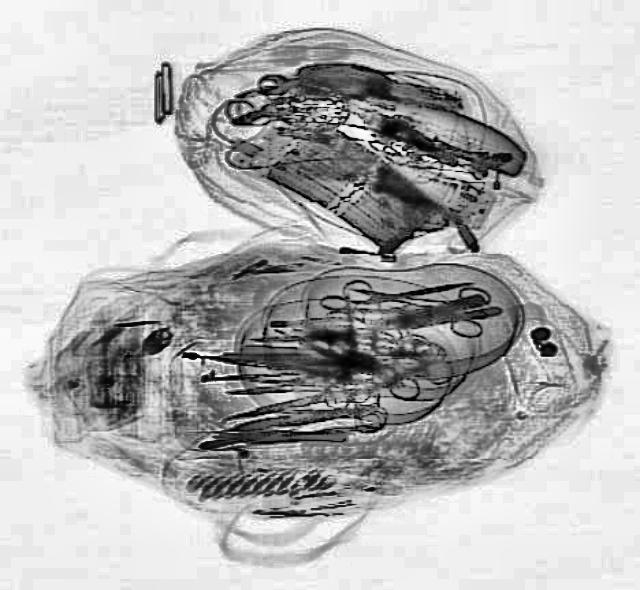Scissors: (338, 263, 492, 341), (315, 268, 469, 312)
